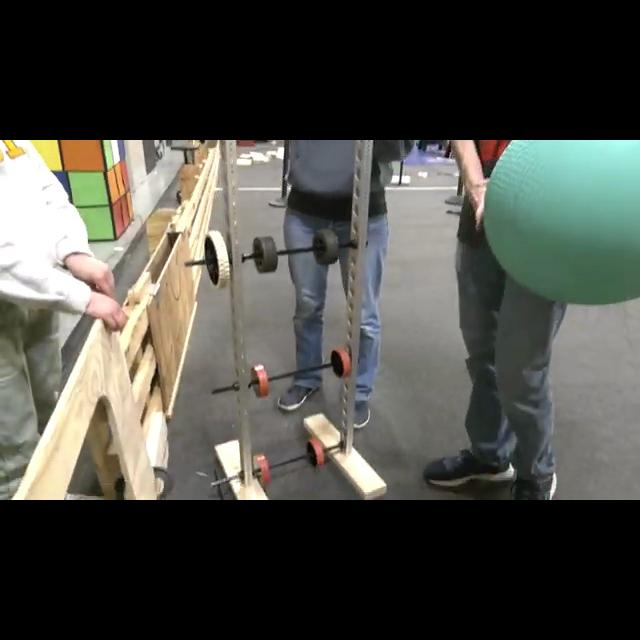ALGAE: (481, 140, 639, 304)
